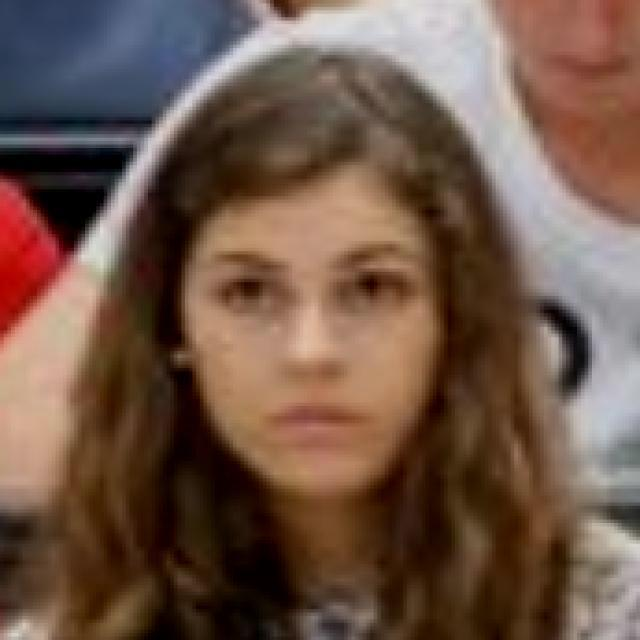Looking forward: (171, 189, 447, 501)
